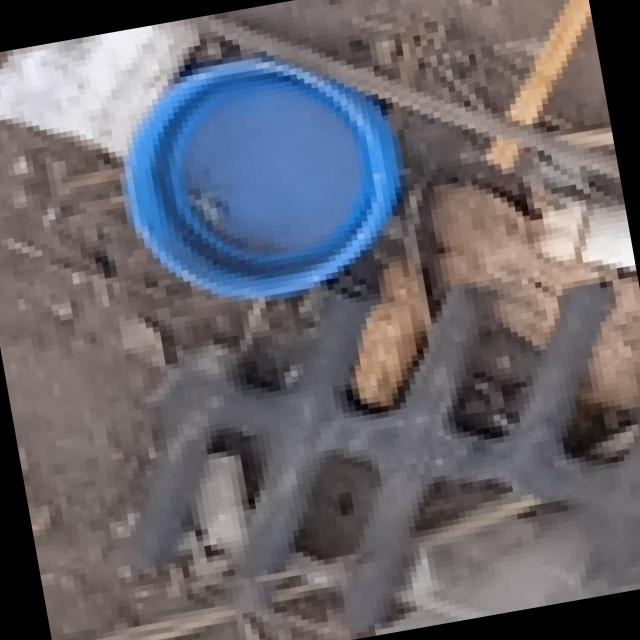electronic: (101, 25, 421, 317)
